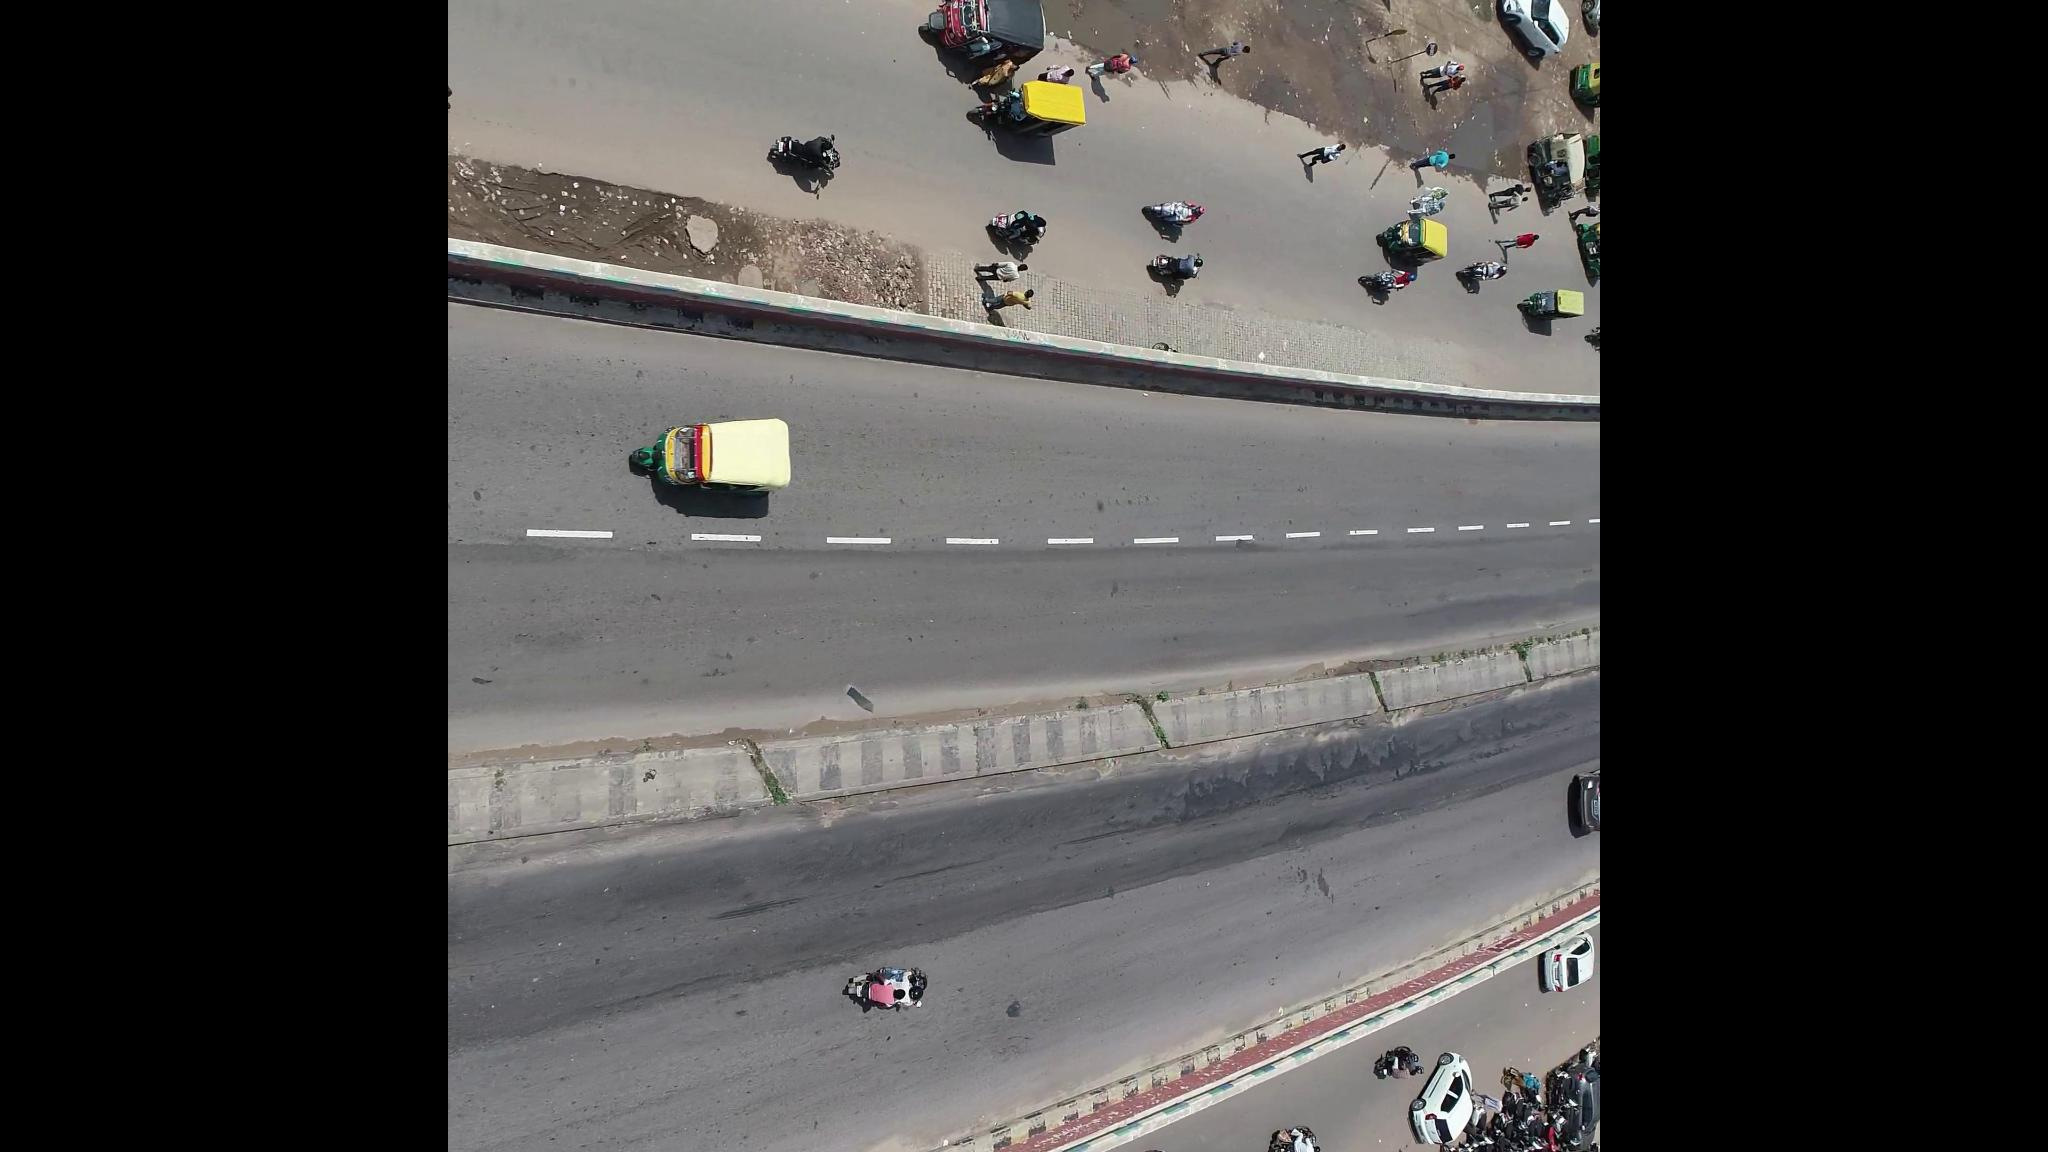Ravelling: (1207, 736, 1400, 798)
